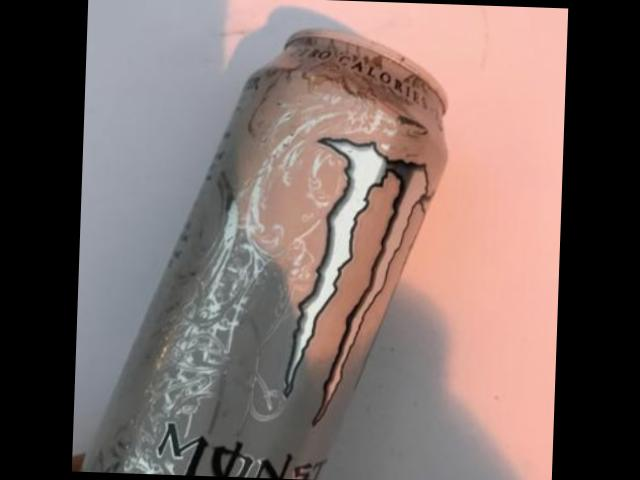metal: (83, 30, 448, 480)
